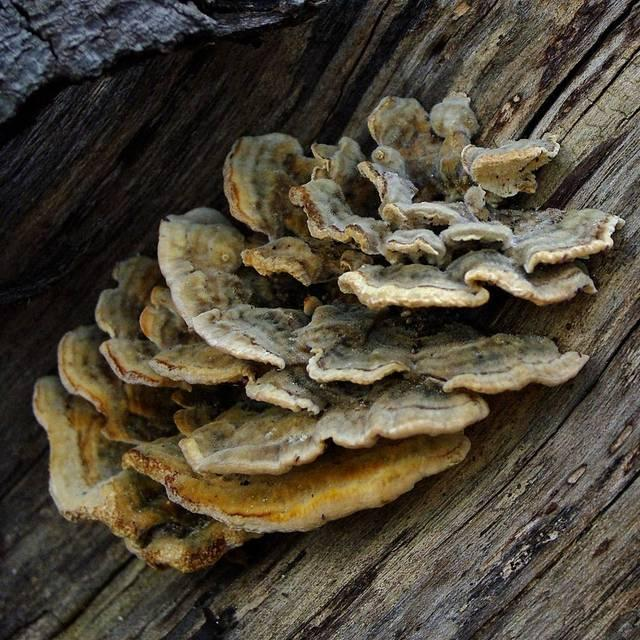poisonous_mushroom: (31, 89, 625, 573)
